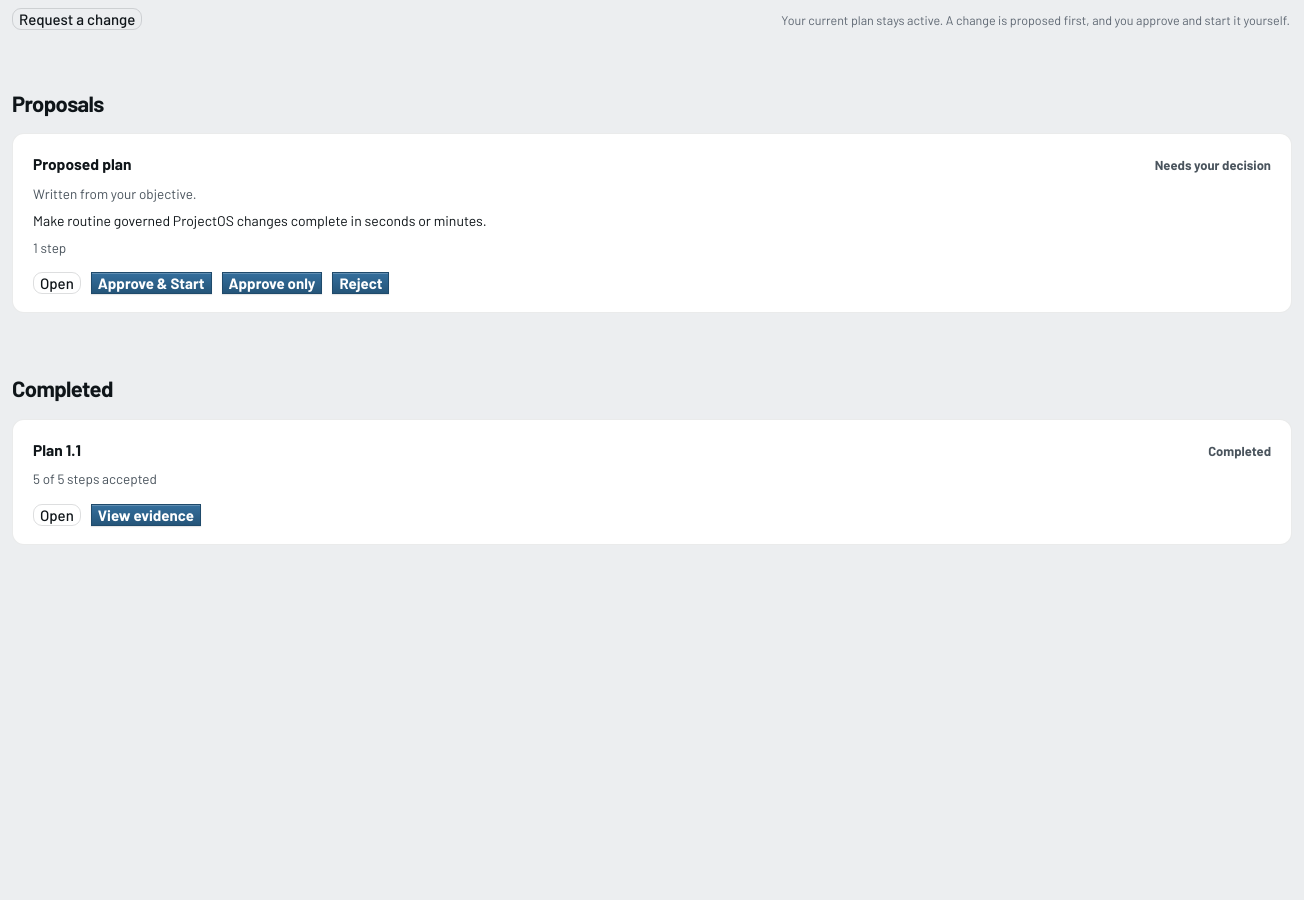
Approve & Start orchestrates the existing verbs, in order, and stops at a refusal › "Approve only" still records the decision and starts nothing
Step 1. Click the button "Approve only" → (272, 284), box 222,272 -> 322,294
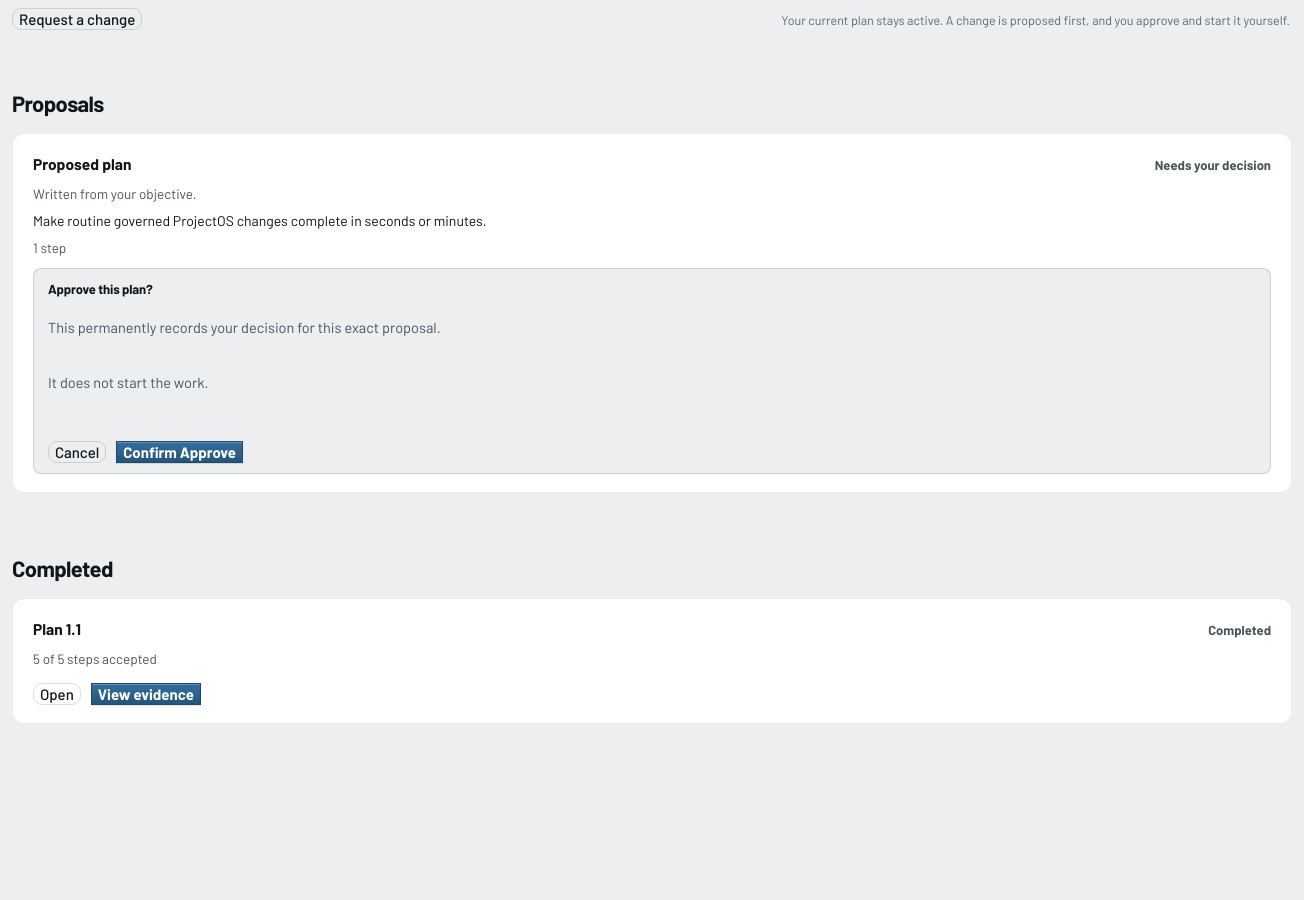
Step 2. Click the button "Confirm Approve" → (180, 452), box 116,441 -> 243,463
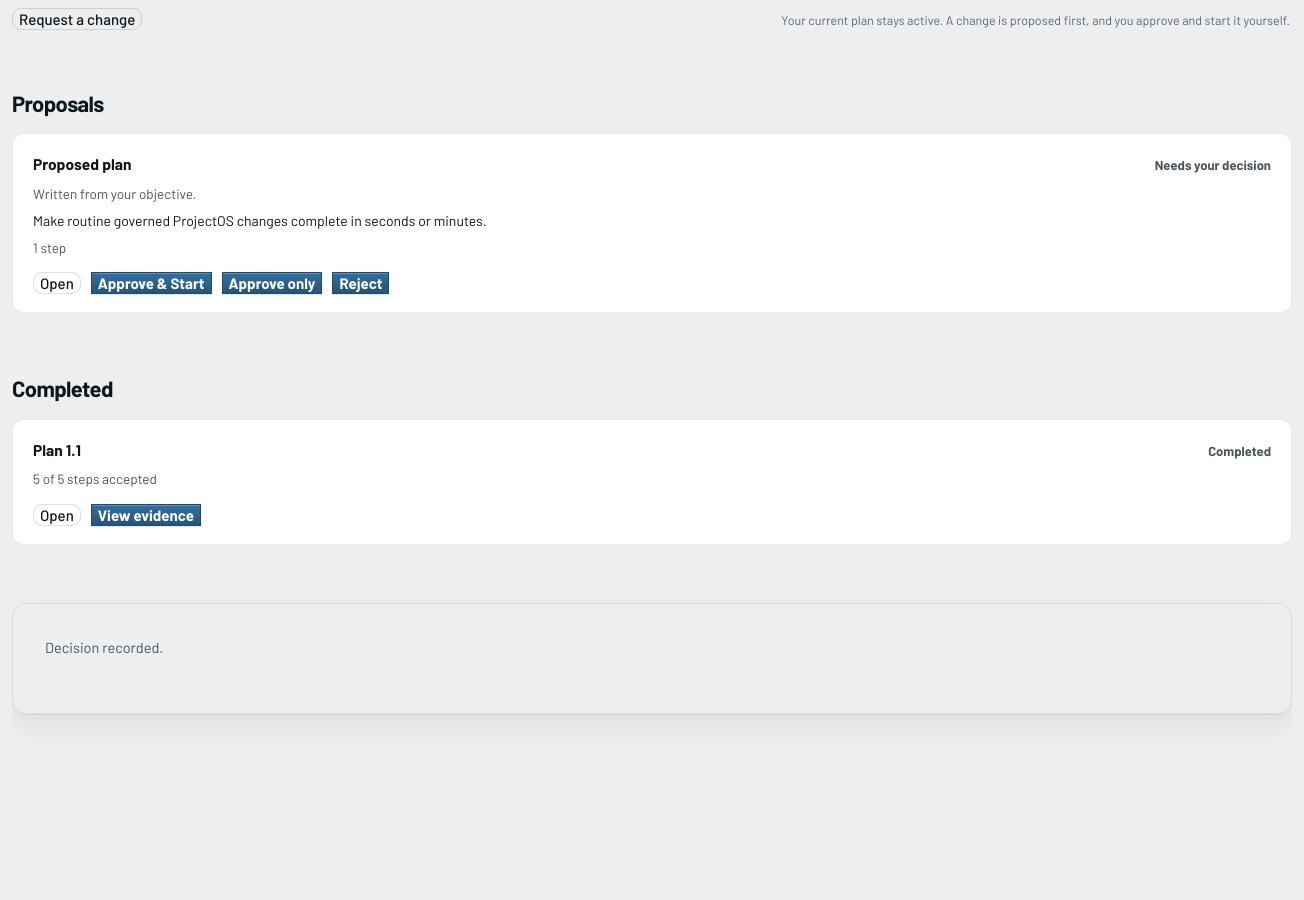
Expected: the text "Decision recorded." is shown, 45,638 -> 163,656
